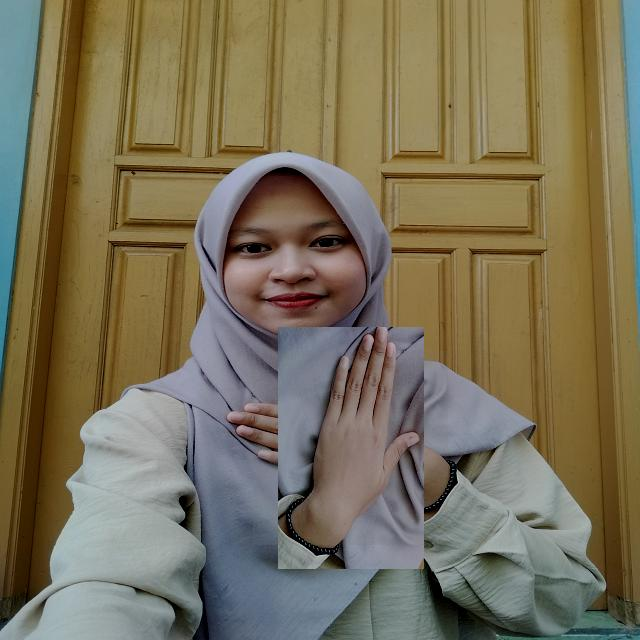tolong: (253, 351, 448, 545)
